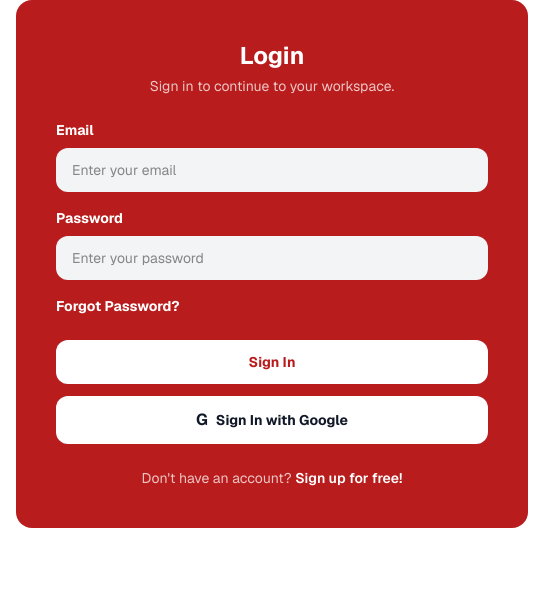
Test: LoginForm › negative › shows error when password is empty
Type "test@example.com" into the field labelled "Email".
click(272, 170); type("test@example.com")  # box [56, 148, 488, 192]
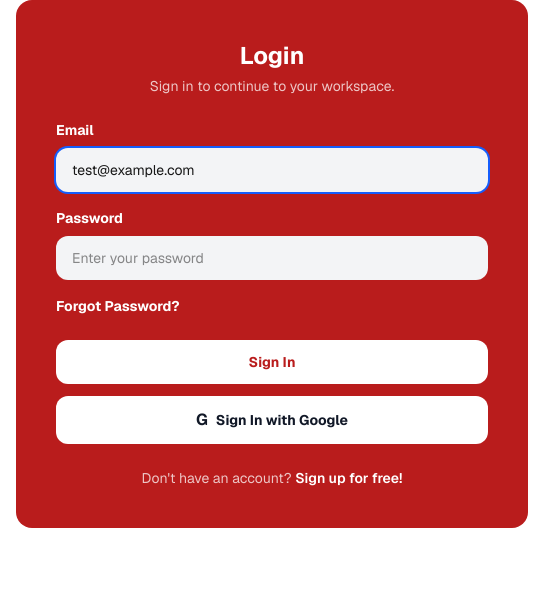
Click the button "Sign In".
click(272, 362)  # box [56, 340, 488, 384]
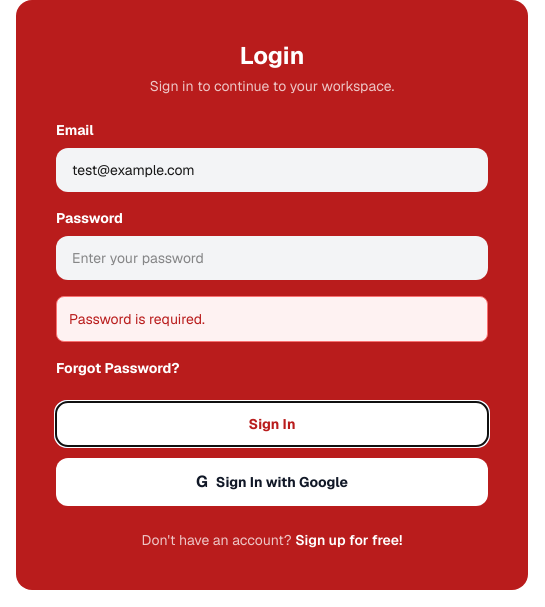
Result: the message "Password is required." is shown at [56, 296, 488, 342]
